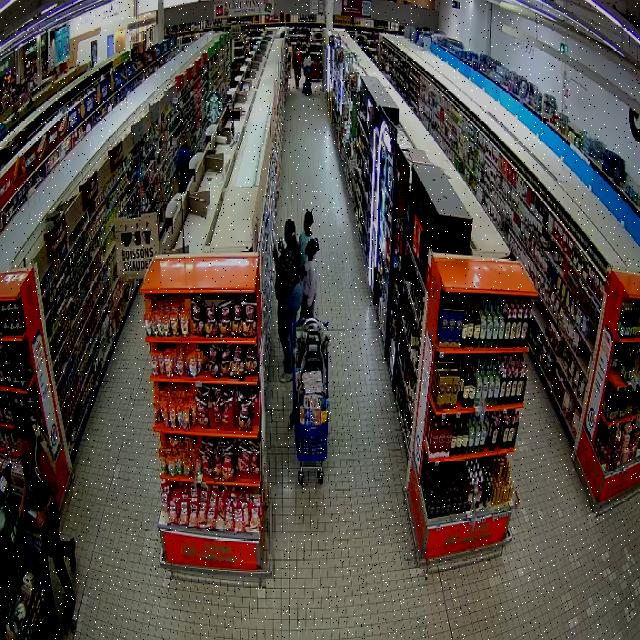article: (278, 233, 284, 251)
person: (15, 413, 75, 616), (274, 220, 302, 381), (301, 237, 318, 317), (298, 209, 313, 266)
